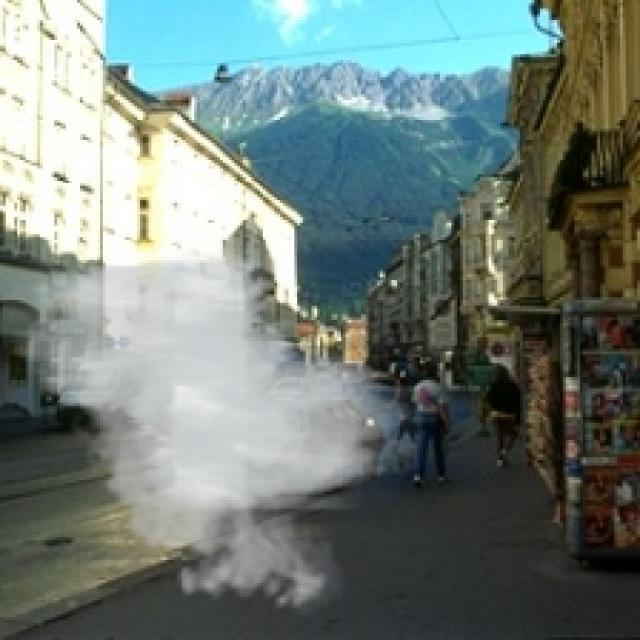Smoke: (2, 248, 418, 620)
